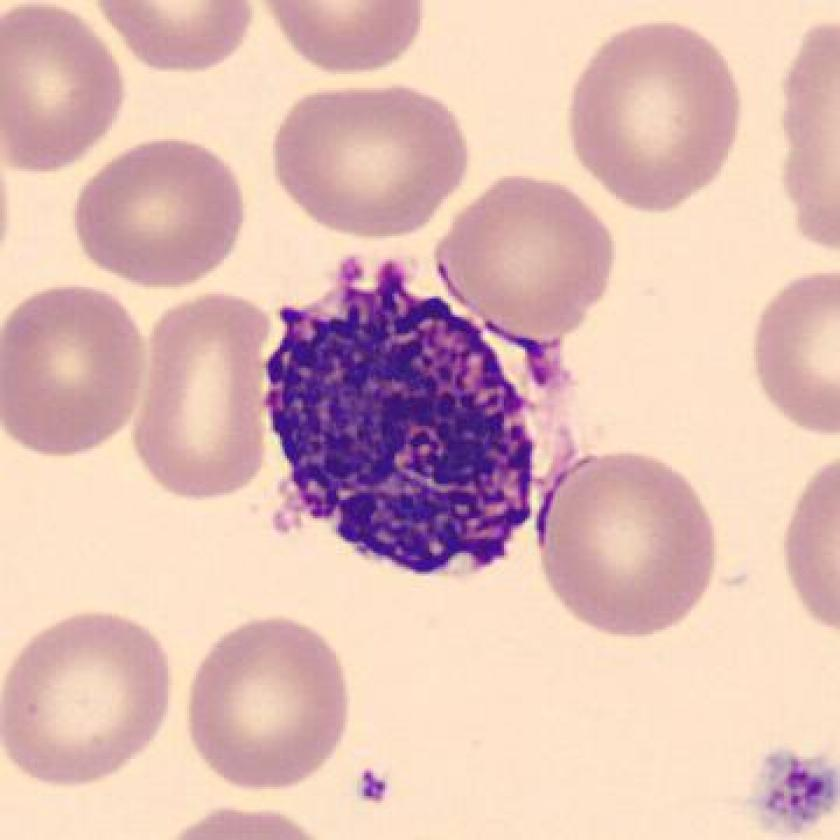basophil: (256, 256, 543, 596)
